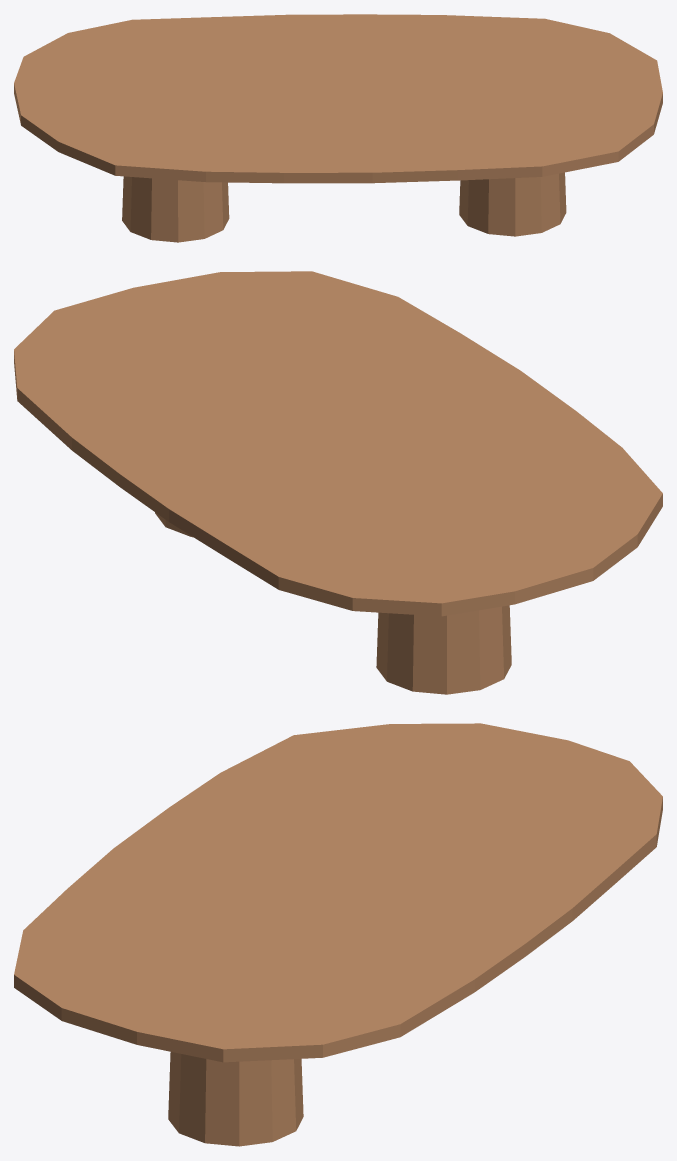
File: desk4.0.fbx
3 renders of one model, top to bottom at view 1: azimuth 30°, elevation 25°; view 2: azimuth 150°, elevation 25°; view 3: azimuth 270°, elevation 25°, orthographic. The views are drawn at different scales.
Visible parts, largest first — view 1: Vert.013, Vert.023; view 2: Vert.013, Vert.023; view 3: Vert.013, Vert.023.
Boxes of the visible parts, left/top/right/bottom form: Vert.013: left=14, top=14, right=662, bottom=242; Vert.023: left=14, top=84, right=662, bottom=183; Vert.013: left=14, top=271, right=662, bottom=694; Vert.023: left=14, top=351, right=662, bottom=616; Vert.013: left=14, top=723, right=662, bottom=1146; Vert.023: left=14, top=797, right=662, bottom=1062.
Size of the model in its own units: 590 by 132 by 496.
